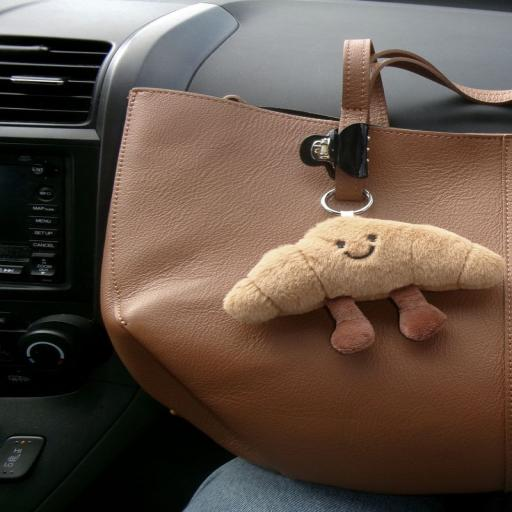door: (101, 41, 512, 509)
